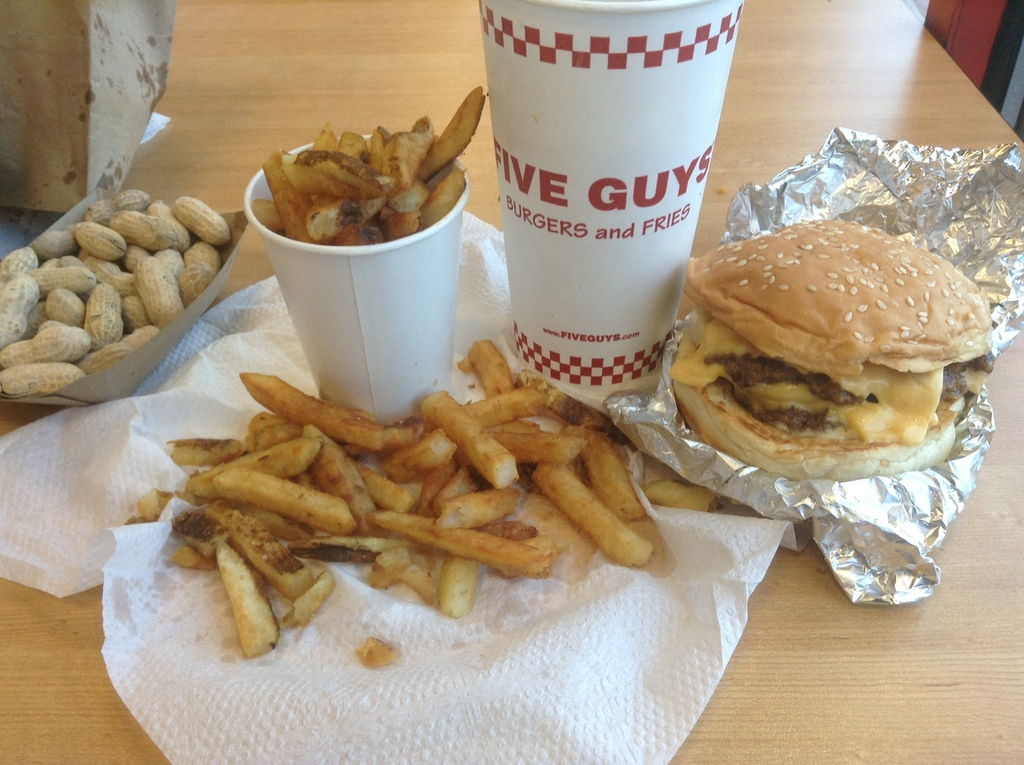French fries: (123, 336, 709, 666), (252, 83, 485, 240)
